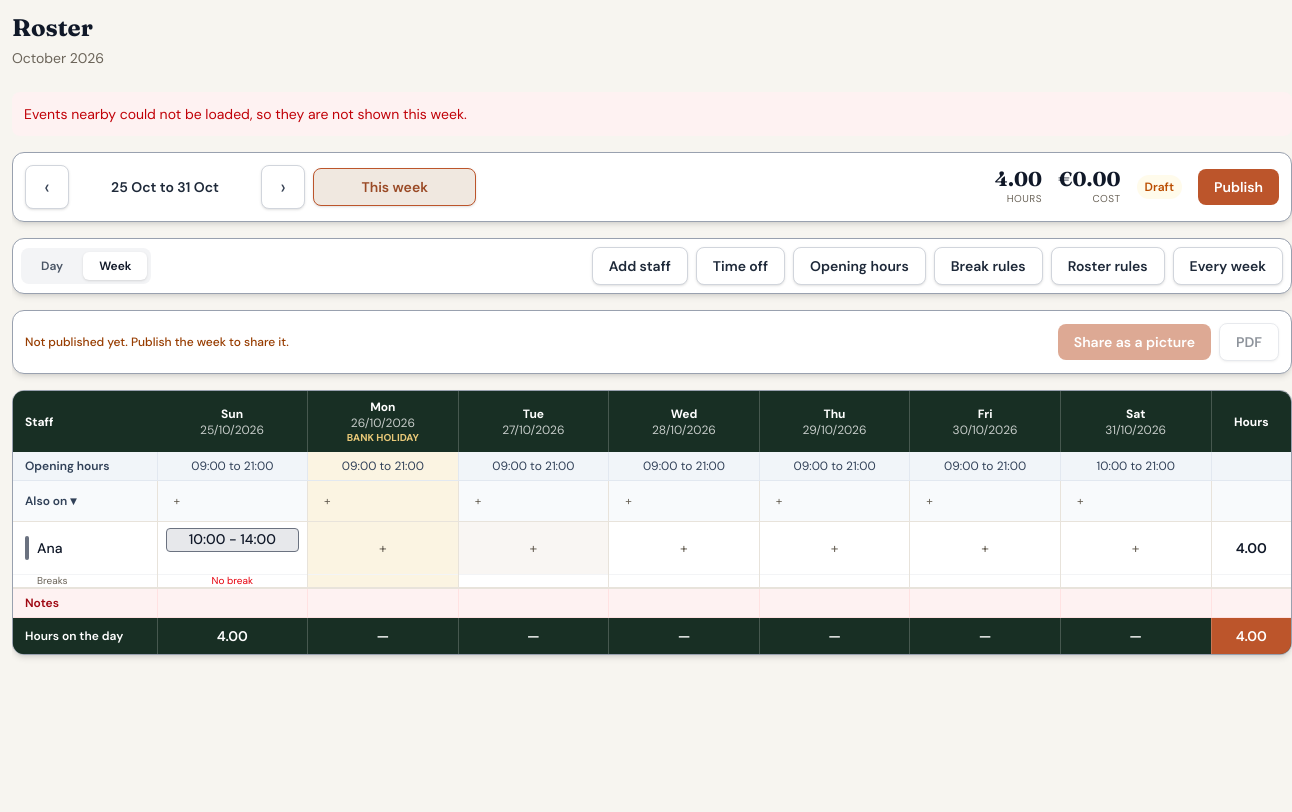
it: events nearby that could not be read › stays said when something else goes wrong after it
expect the text "Events nearby could not be loaded, so they are not shown this week." is shown: met, box 12,92 -> 1291,136
Click the button "Publish" at (1238, 187), box 1198,169 -> 1279,205
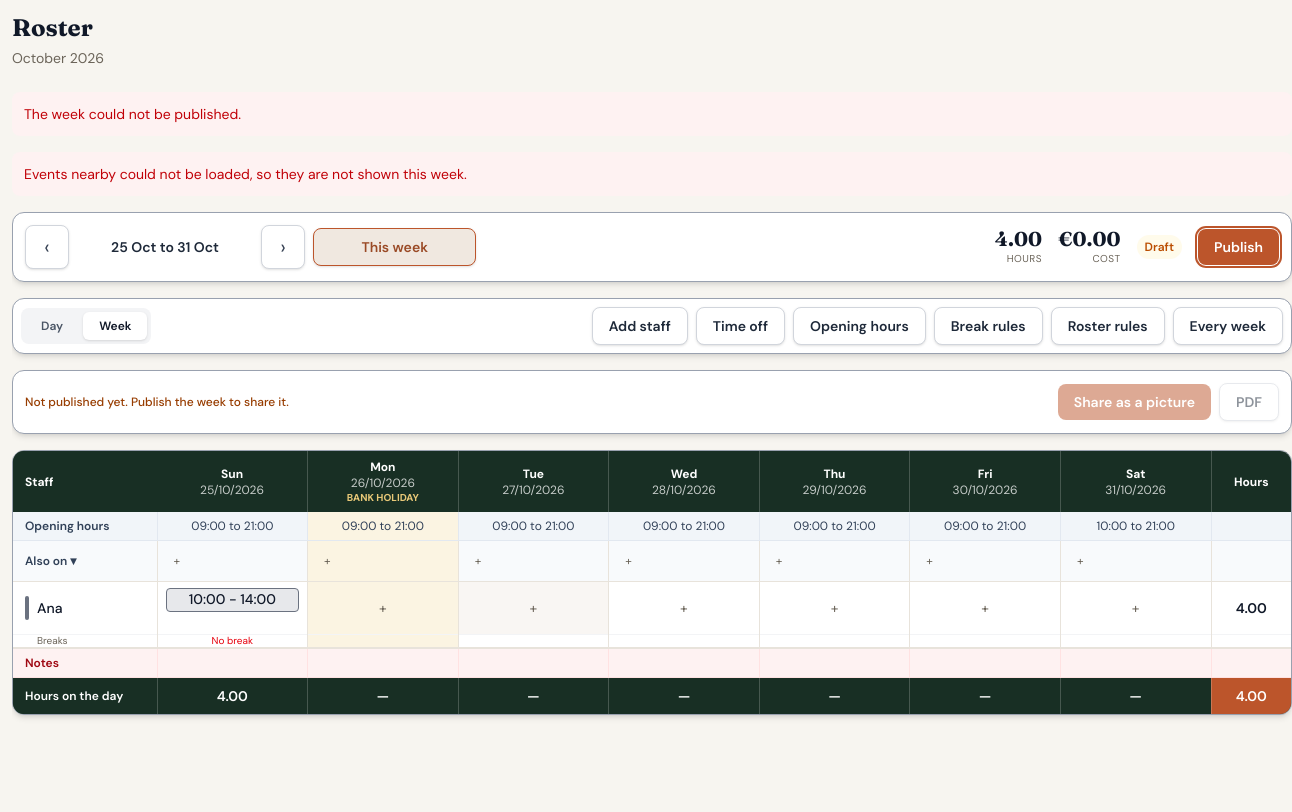
expect the text "Events nearby could not be loaded, so they are not shown this week." is shown: met, box 12,152 -> 1291,196
expect the text "The week could not be published." is shown: met, box 12,92 -> 1291,136
